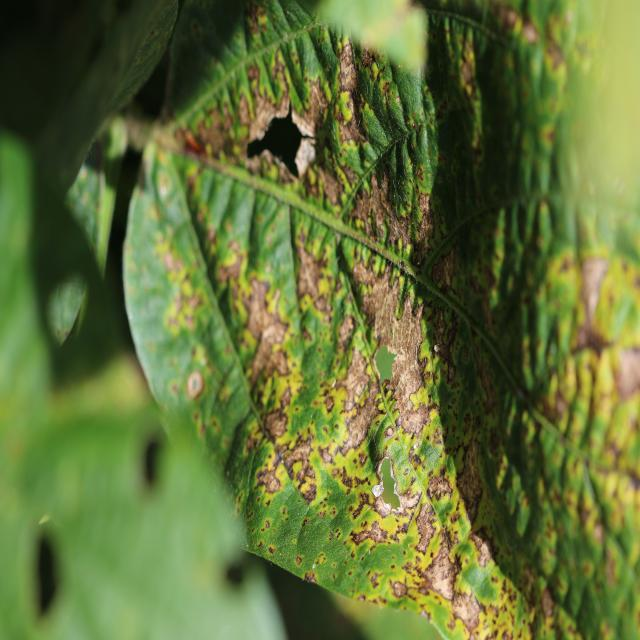Bacterial_Blight: (427, 11, 490, 243), (494, 197, 566, 394), (64, 119, 123, 276), (368, 251, 427, 408), (102, 1, 180, 119), (245, 457, 320, 572), (129, 224, 190, 360), (259, 6, 329, 124), (434, 314, 485, 456), (549, 489, 603, 606), (407, 4, 530, 54), (306, 332, 370, 427), (211, 170, 257, 294), (290, 216, 344, 310), (591, 248, 640, 348), (222, 418, 261, 514), (249, 329, 291, 405), (602, 389, 640, 470), (355, 541, 414, 585), (456, 548, 501, 605), (393, 62, 427, 136), (381, 436, 417, 492), (356, 517, 393, 547), (280, 2, 316, 30), (332, 462, 363, 494), (319, 168, 342, 210), (389, 156, 404, 217), (400, 405, 428, 437), (536, 200, 553, 251), (235, 88, 255, 130), (274, 445, 296, 482), (84, 137, 104, 171), (360, 140, 380, 168), (225, 561, 245, 586), (359, 46, 376, 72), (416, 192, 431, 221), (441, 527, 452, 553), (370, 572, 380, 588), (434, 344, 441, 354)
Soybean: (124, 0, 640, 640)
